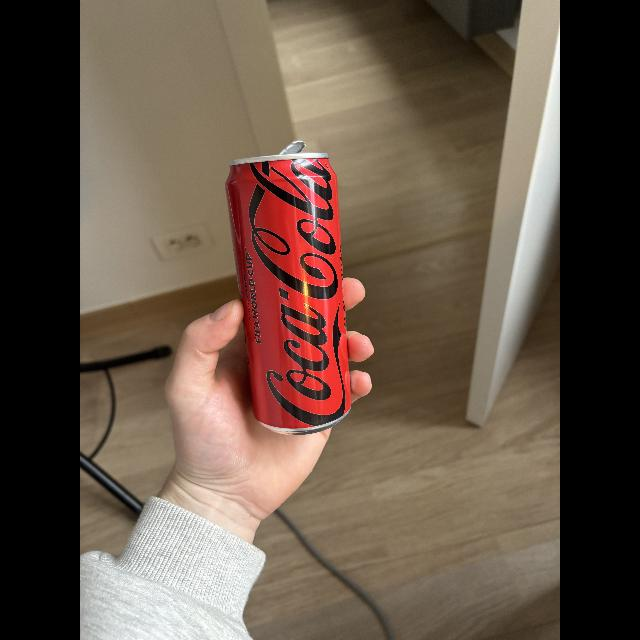Metal: (216, 136, 364, 440)
